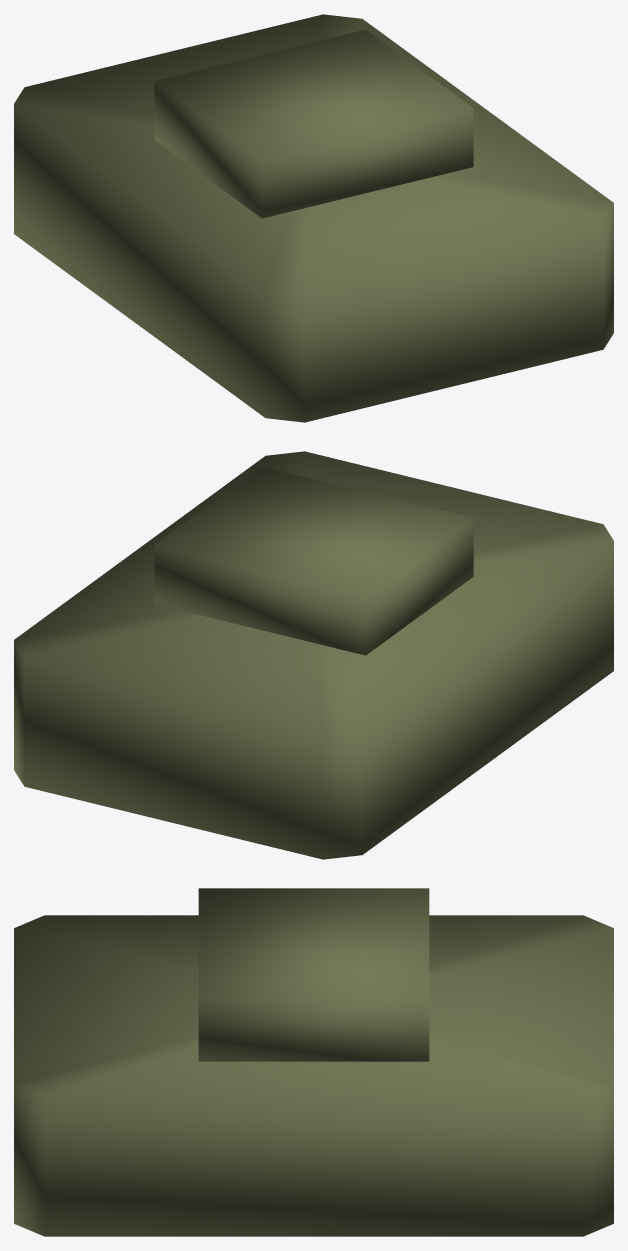
The model's file is scout_rover_lod2.obj.
The picture shows the model from 3 angles, top to bottom: view 1: azimuth 30°, elevation 25°; view 2: azimuth 150°, elevation 25°; view 3: azimuth 270°, elevation 25°; orthographic projection. The views are drawn at different scales.
Parts seen in each view (by area): view 1: scout_rover_lod2; view 2: scout_rover_lod2; view 3: scout_rover_lod2.
Part boxes in pixels (x1,y1,x2,y2): scout_rover_lod2: [14, 14, 613, 422]; scout_rover_lod2: [14, 451, 613, 859]; scout_rover_lod2: [14, 888, 613, 1236].
Bounding box in the file's own units: 2.8 × 1.45 × 3.9.
